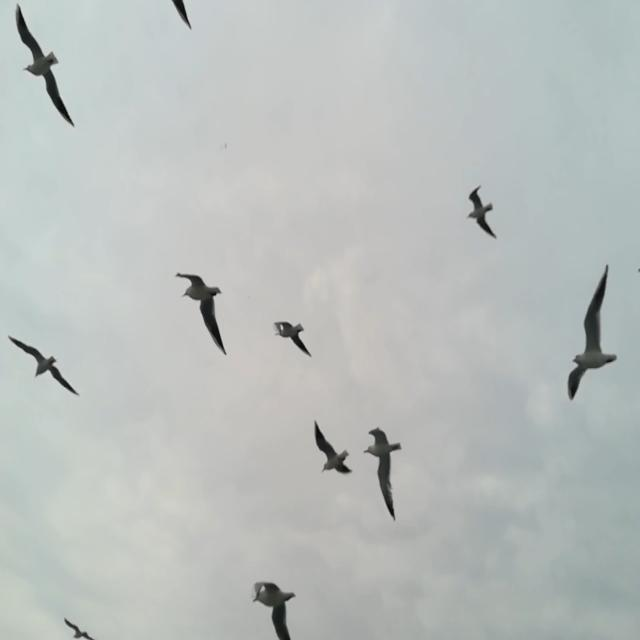bird: (15, 2, 76, 126), (567, 264, 618, 400), (8, 337, 81, 397), (176, 274, 227, 358), (364, 426, 402, 520), (251, 579, 297, 640), (313, 419, 354, 476), (465, 185, 496, 239), (274, 320, 314, 360), (63, 619, 97, 640), (171, 1, 192, 32), (224, 143, 227, 151), (637, 266, 640, 274)
